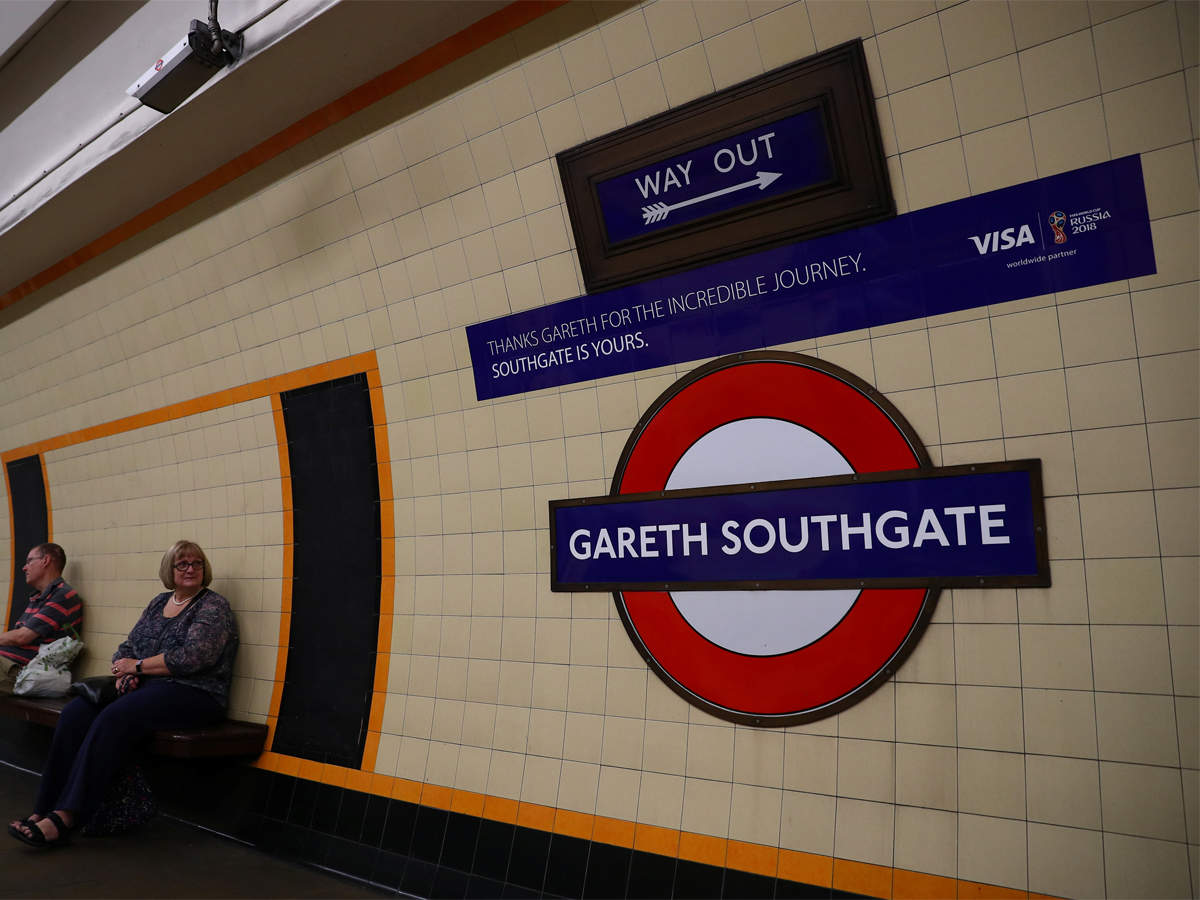London Underground: (554, 352, 1052, 734)
